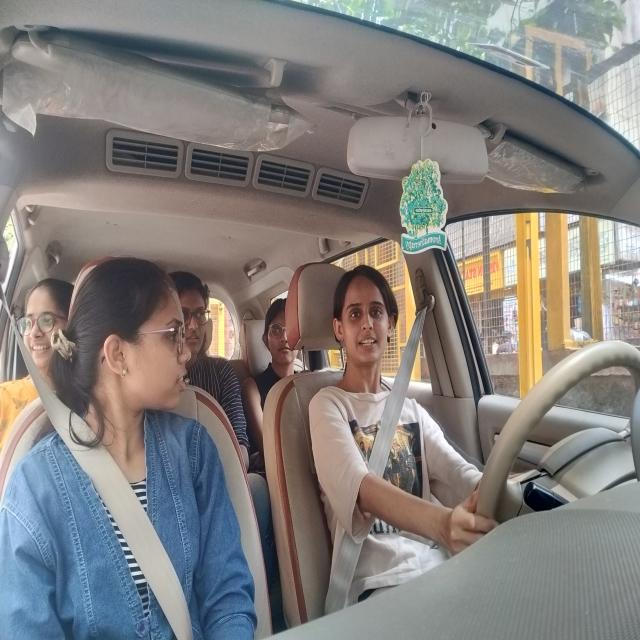person: (79, 262, 197, 410), (335, 270, 396, 366), (21, 275, 62, 364), (263, 303, 300, 382), (184, 277, 217, 354)
